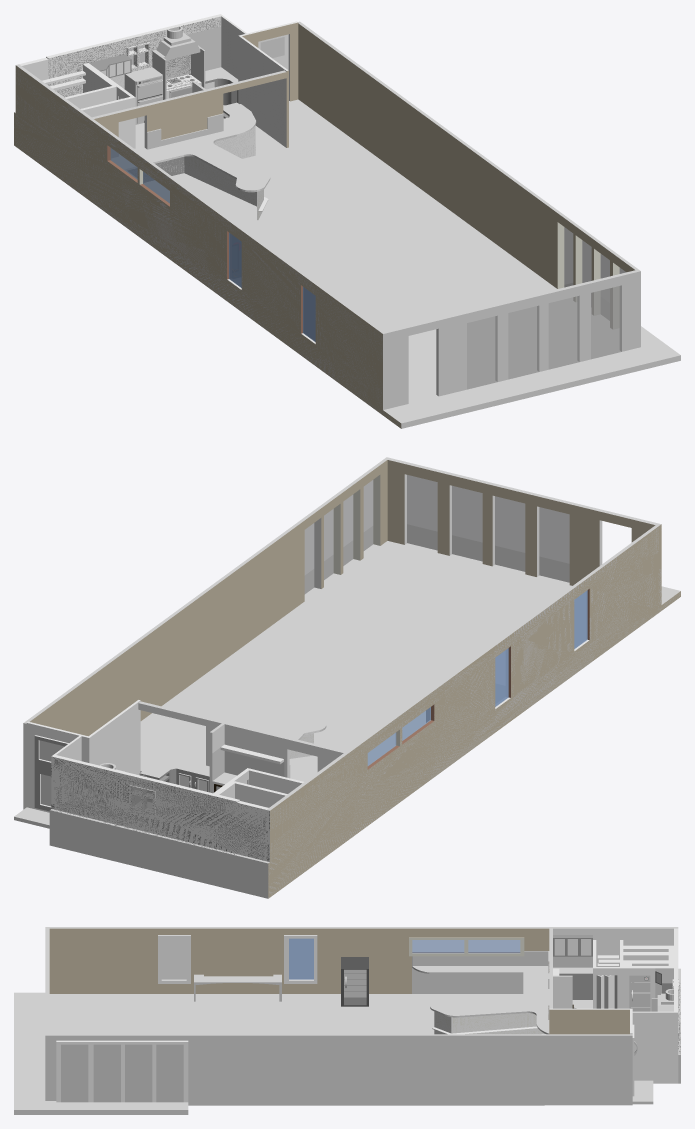
The model's file is world_final.dae.
3 views of the same model, one above another, from view 1: azimuth 30°, elevation 25°; view 2: azimuth 150°, elevation 25°; view 3: azimuth 270°, elevation 25° (orthographic). The views are drawn at different scales.
Visible parts, largest first — view 1: SketchUp.223, SketchUp.317, SketchUp.102, SketchUp.171, SketchUp.289, SketchUp.064, SketchUp.107, SketchUp.149, SketchUp.087, SketchUp.297, SketchUp.170, SketchUp.096 (+6 smaller); view 2: SketchUp.317, SketchUp.223, SketchUp.102, SketchUp.064, SketchUp.086, SketchUp.305, SketchUp.171, SketchUp.289, SketchUp.107, SketchUp.149, SketchUp.096, SketchUp.297 (+10 smaller); view 3: SketchUp.289, SketchUp.102, SketchUp.317, SketchUp.064, SketchUp.171, SketchUp.107, SketchUp.149, SketchUp.210, SketchUp.172, SketchUp.241, SketchUp.225, SketchUp.145 (+21 smaller).
Part boxes in pixels (box(x1,y1,x2,y2)): SketchUp.223: box(14, 65, 382, 415); SketchUp.317: box(303, 202, 620, 401); SketchUp.102: box(94, 22, 634, 328); SketchUp.171: box(135, 99, 438, 272); SketchUp.289: box(16, 21, 640, 409); SketchUp.064: box(19, 14, 297, 148); SketchUp.107: box(383, 283, 680, 428); SketchUp.149: box(111, 102, 270, 202); SketchUp.087: box(48, 16, 221, 97); SketchUp.297: box(548, 295, 579, 369); SketchUp.170: box(508, 305, 539, 379); SketchUp.096: box(591, 285, 621, 359); SketchUp.317: box(178, 541, 571, 716); SketchUp.223: box(268, 524, 661, 898); SketchUp.102: box(30, 460, 655, 736); SketchUp.064: box(23, 700, 343, 812); SketchUp.086: box(51, 756, 269, 861); SketchUp.305: box(49, 810, 269, 898); SketchUp.171: box(140, 694, 425, 773); SketchUp.289: box(24, 457, 660, 810); SketchUp.107: box(305, 524, 680, 604); SketchUp.149: box(140, 717, 403, 784); SketchUp.096: box(407, 475, 437, 550); SketchUp.297: box(452, 485, 482, 561); SketchUp.289: box(45, 927, 678, 1105); SketchUp.102: box(49, 928, 629, 1034); SketchUp.317: box(49, 994, 335, 1099); SketchUp.064: box(549, 928, 678, 1096); SketchUp.171: box(263, 994, 592, 1034); SketchUp.107: box(14, 992, 188, 1114); SketchUp.149: box(412, 966, 592, 1033); SketchUp.210: box(412, 968, 523, 993); SketchUp.172: box(56, 1040, 188, 1102); SketchUp.241: box(432, 1011, 544, 1034); SketchUp.225: box(156, 1044, 183, 1102); SketchUp.145: box(93, 1044, 120, 1102).
Size of the model in its own units: 10.17 by 24.41 by 2.87.
